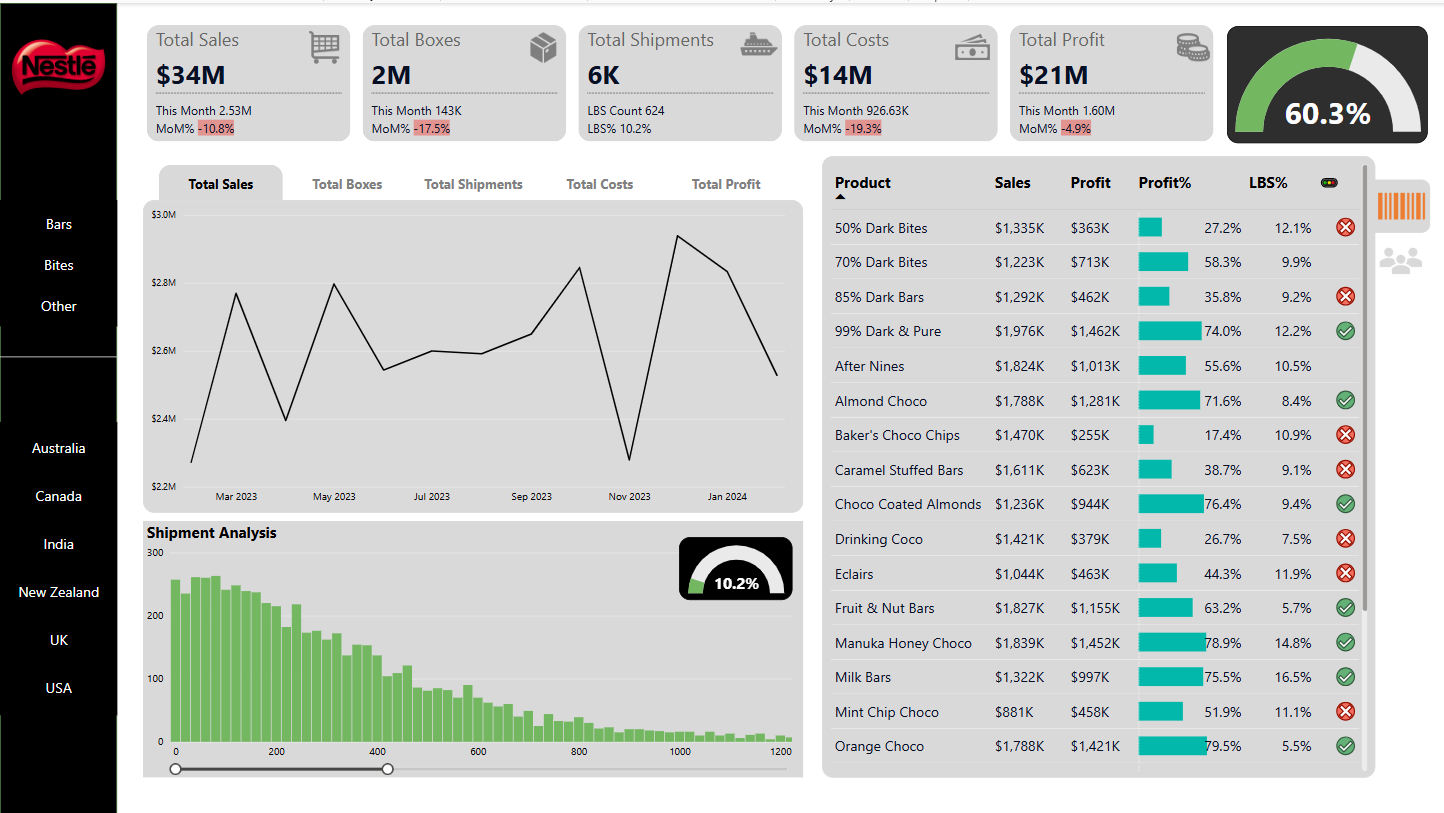

The page's visual inventory and layout, read from the dashboard file:
{"tool":"powerbi","page":{"name":"Dashboard","canvas":[1920,1080],"ordinal":0},"visuals":[{"type":"shape","box":[0,0,155.7,1079.8],"z":0},{"type":"cardVisual","fields":{"Data":["_Measures.Total Sales","_Measures.Total Boxes","_Measures.Total Shipments","_Measures.Total Costs","_Measures.Total Profit"]},"box":[189.9,29.1,1430.6,160.9],"z":1000},{"type":"gauge","fields":{"Y":["_Measures.Profit%"]},"box":[1632.5,30.8,267,155.7],"z":2000},{"type":"lineChart","fields":{"Y":["_Measures.Total Sales"],"Category":["calendar.Start of Month"]},"box":[190.8,262,878.2,416.4],"z":3000},{"type":"columnChart","title":"Shipment Analysis","fields":{"Category":["shipments.Boxes (bins)"],"Y":["_Measures.Total Shipments"]},"box":[190.8,689,878.2,340.7],"z":4000},{"type":"advancedSlicerVisual","fields":{"Values":["Measure selector.Measure selector"]},"box":[205.9,210.5,849.5,57.5],"z":5000},{"type":"tableEx","title":"product Table","fields":{"Values":["products.Product","_Measures.Total Sales","_Measures.Total Profit","_Measures.Profit%","_Measures.LBS%","_Measures.Profit Target Indicator"]},"box":[1093.5,203.6,735.8,826.5],"z":7000},{"type":"gauge","fields":{"Y":["_Measures.LBS%"]},"box":[903.5,710.2,150.6,83.9],"z":10000},{"type":"advancedSlicerVisual","fields":{"Values":["products.Category"]},"box":[0,262.1,156.2,168.4],"z":11000},{"type":"advancedSlicerVisual","fields":{"Values":["shipments.Geography"]},"box":[0,556.7,156.2,389.7],"z":12000},{"type":"shape","box":[0,320.5,156.2,300.1],"z":14001},{"type":"image","title":"grey product","box":[1826.1,233.2,75.7,74.2],"z":14003},{"type":"image","box":[687.9,29.1,70.2,60],"z":14004},{"type":"image","box":[1262.9,29.1,59.9,59.9],"z":14005},{"type":"image","box":[1555.5,24,59.9,70.2],"z":14006},{"type":"image","box":[978.8,24,61.6,61.6],"z":14007},{"type":"image","box":[402.1,27.4,61.6,61.6],"z":14008},{"type":"image","box":[0,0,155.7,172.8],"z":14009},{"type":"image","title":"people 1","box":[1825.9,306.3,73.6,73.6],"z":14011}]}

Visuals, with their boxes in screenshot pixels (x1, y1, x2, y2), scaled from the page's 1920x1080 canvas onto the 1444x813 screenshot:
shape: [x1=0, y1=0, x2=117, y2=812]
cardVisual - _Measures.Total Sales x _Measures.Total Boxes: [x1=143, y1=22, x2=1219, y2=143]
gauge - _Measures.Profit%: [x1=1228, y1=23, x2=1429, y2=140]
lineChart - _Measures.Total Sales x calendar.Start of Month: [x1=143, y1=197, x2=804, y2=511]
"Shipment Analysis" columnChart: [x1=143, y1=519, x2=804, y2=775]
advancedSlicerVisual - Measure selector.Measure selector: [x1=155, y1=158, x2=794, y2=202]
"product Table" tableEx: [x1=822, y1=153, x2=1376, y2=775]
gauge - _Measures.LBS%: [x1=680, y1=535, x2=793, y2=598]
advancedSlicerVisual - products.Category: [x1=0, y1=197, x2=117, y2=324]
advancedSlicerVisual - shipments.Geography: [x1=0, y1=419, x2=117, y2=712]
shape: [x1=0, y1=241, x2=117, y2=467]
"grey product" image: [x1=1373, y1=176, x2=1430, y2=231]
image: [x1=517, y1=22, x2=570, y2=67]
image: [x1=950, y1=22, x2=995, y2=67]
image: [x1=1170, y1=18, x2=1215, y2=71]
image: [x1=736, y1=18, x2=782, y2=64]
image: [x1=302, y1=21, x2=349, y2=67]
image: [x1=0, y1=0, x2=117, y2=130]
"people 1" image: [x1=1373, y1=231, x2=1429, y2=286]
